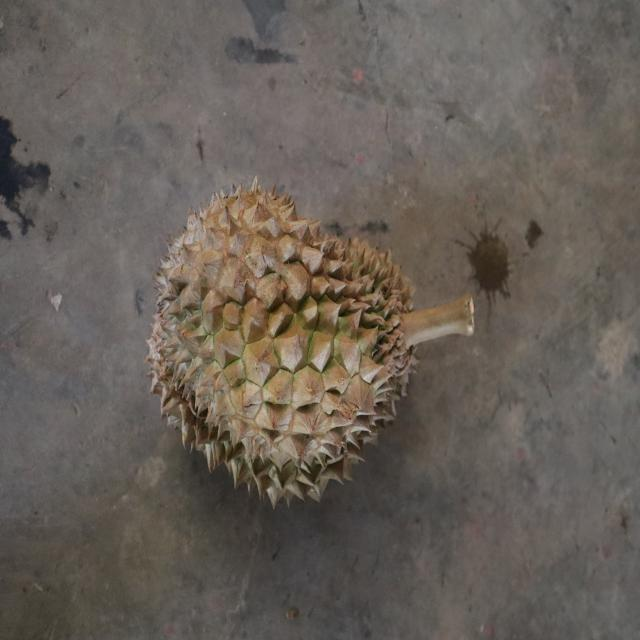mature: (144, 178, 420, 513)
